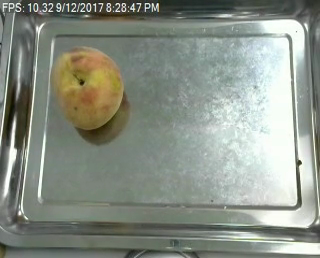Peach: (51, 44, 125, 131)
